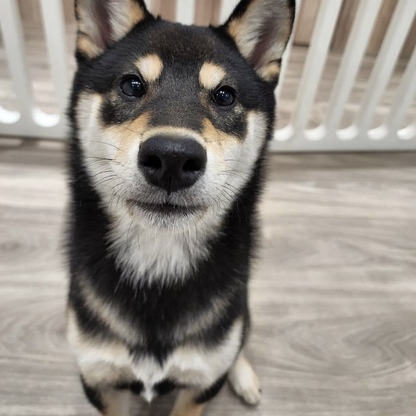shiba: (52, 1, 300, 416)
